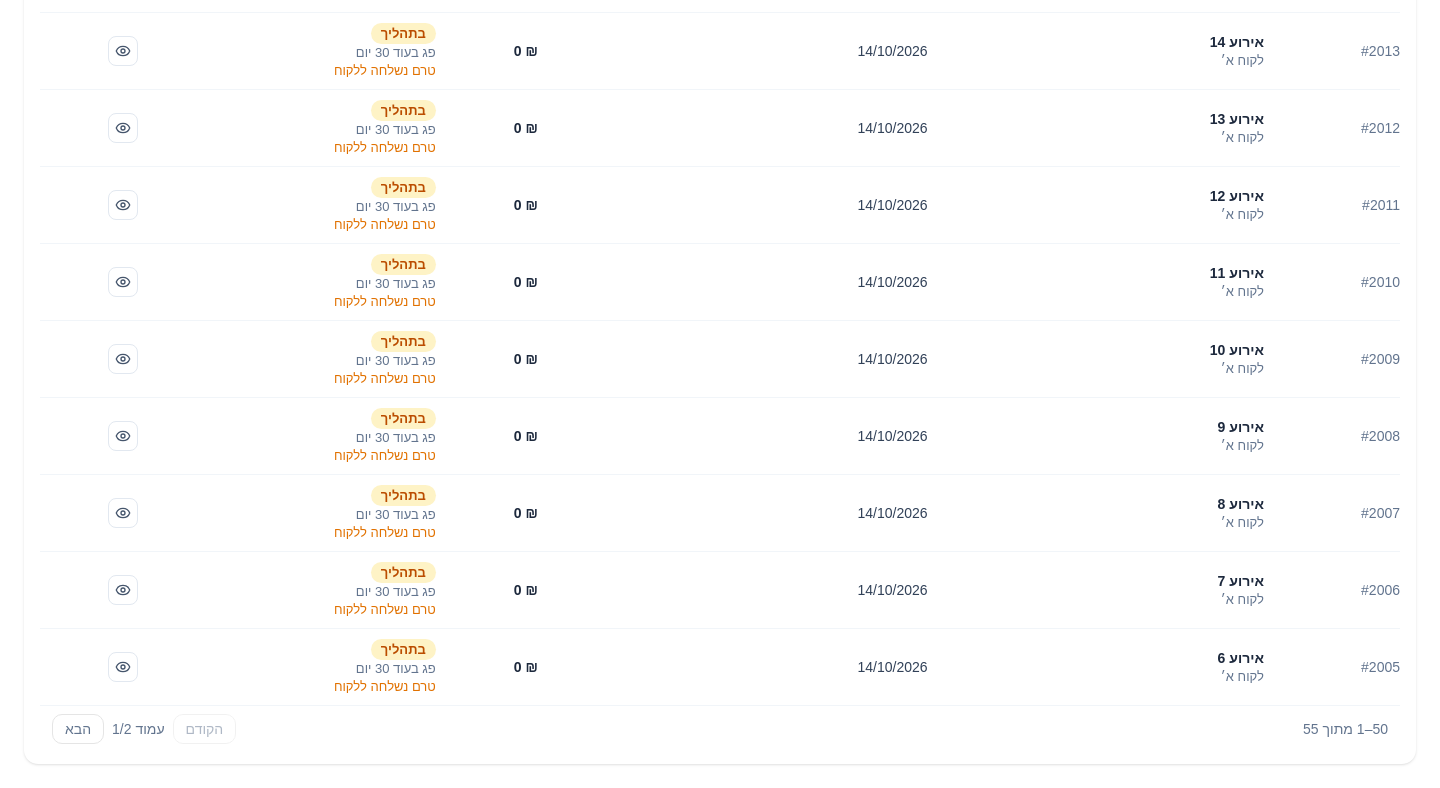
Test case: מעבר-לשונית מאפס את העמוד › דפדוף לעמוד 2 ואז מעבר ללשונית "הכל" חוזר לעמוד 1
(page scrolled)
Click the button with test id "list-pager-next".
click(78, 729)  # box [52, 714, 104, 744]
(page scrolled)
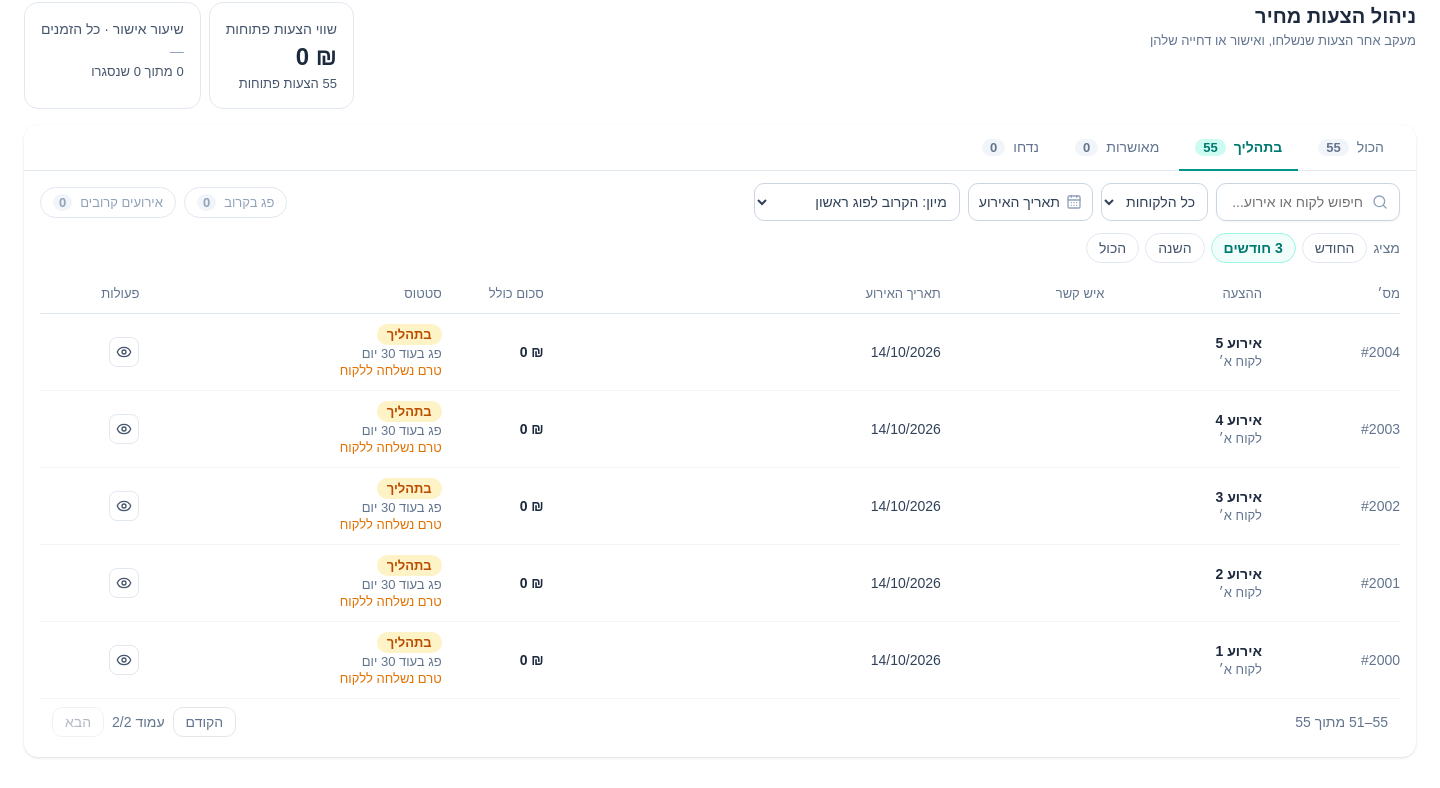
Check: the element with test id "list-pager-page" shows "2", box [112, 714, 120, 730]
Click the button with test id "quotes-tab-all".
click(1351, 148)  # box [1302, 125, 1400, 171]
(page scrolled)
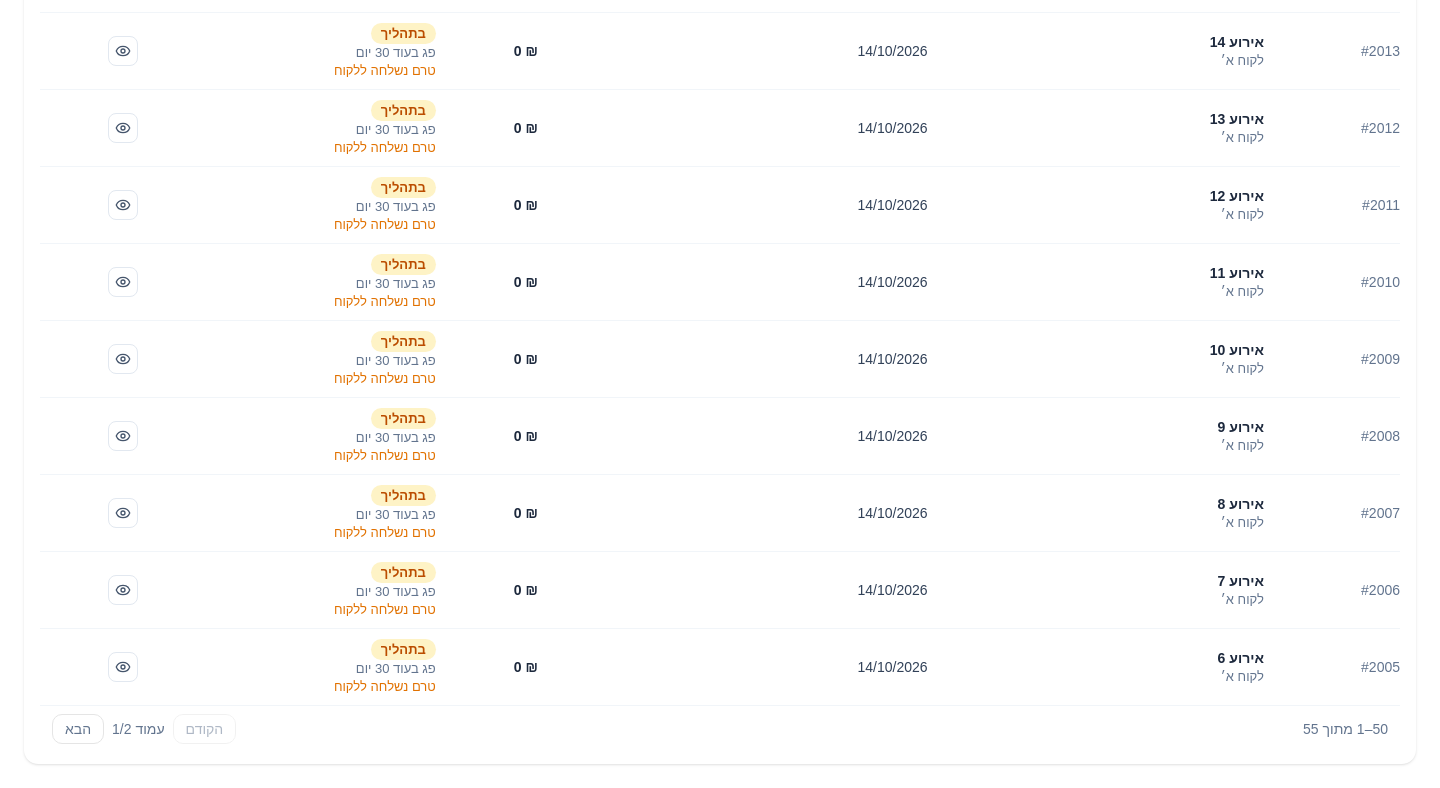
Check: the element with test id "list-pager-page" shows "1", box [112, 721, 120, 737]
